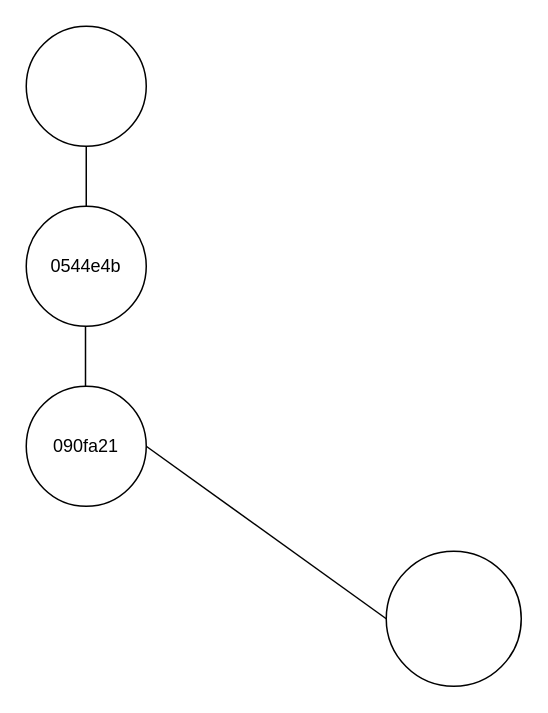
The diagram is 548 pixels wide and 713 high, and some of its shapes have lost their labels. Each missing label, with the centre of its shape:
"2340f0f" goes at [85,85].
"97355da" goes at [453,618].
